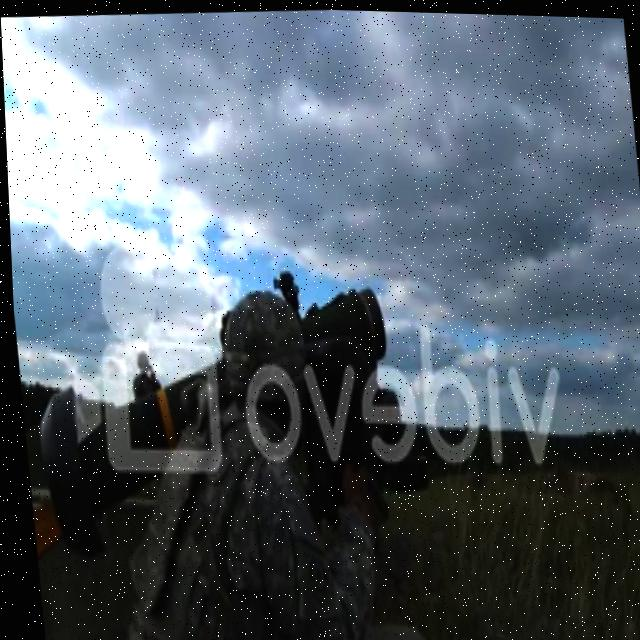rocket: (22, 342, 232, 567)
